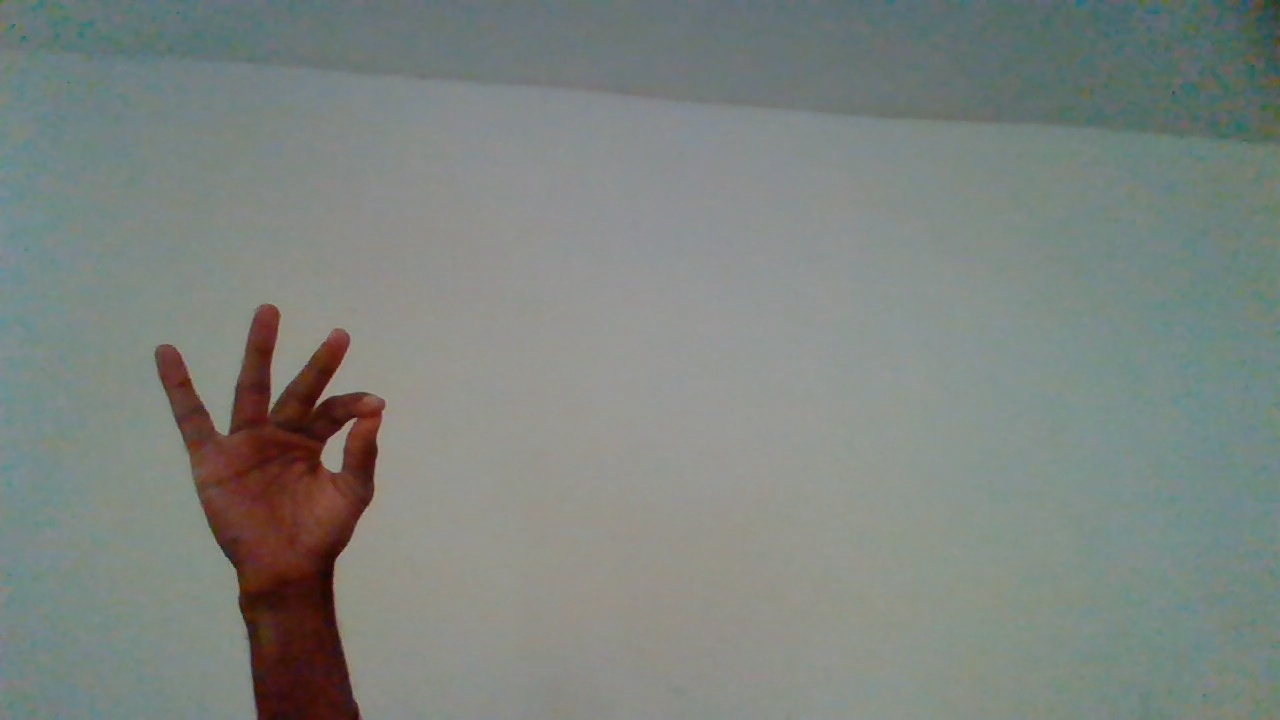le: (153, 304, 391, 700)
